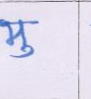u_matra: (3, 45, 35, 59)
